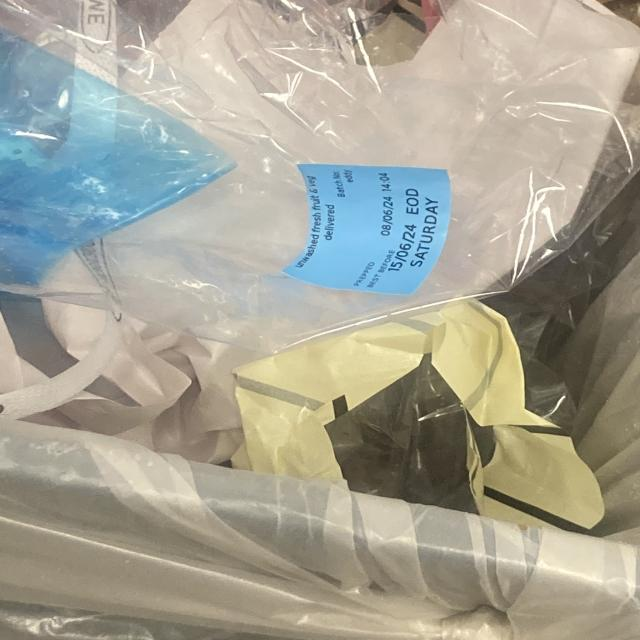product-labels: (293, 163, 455, 299)
